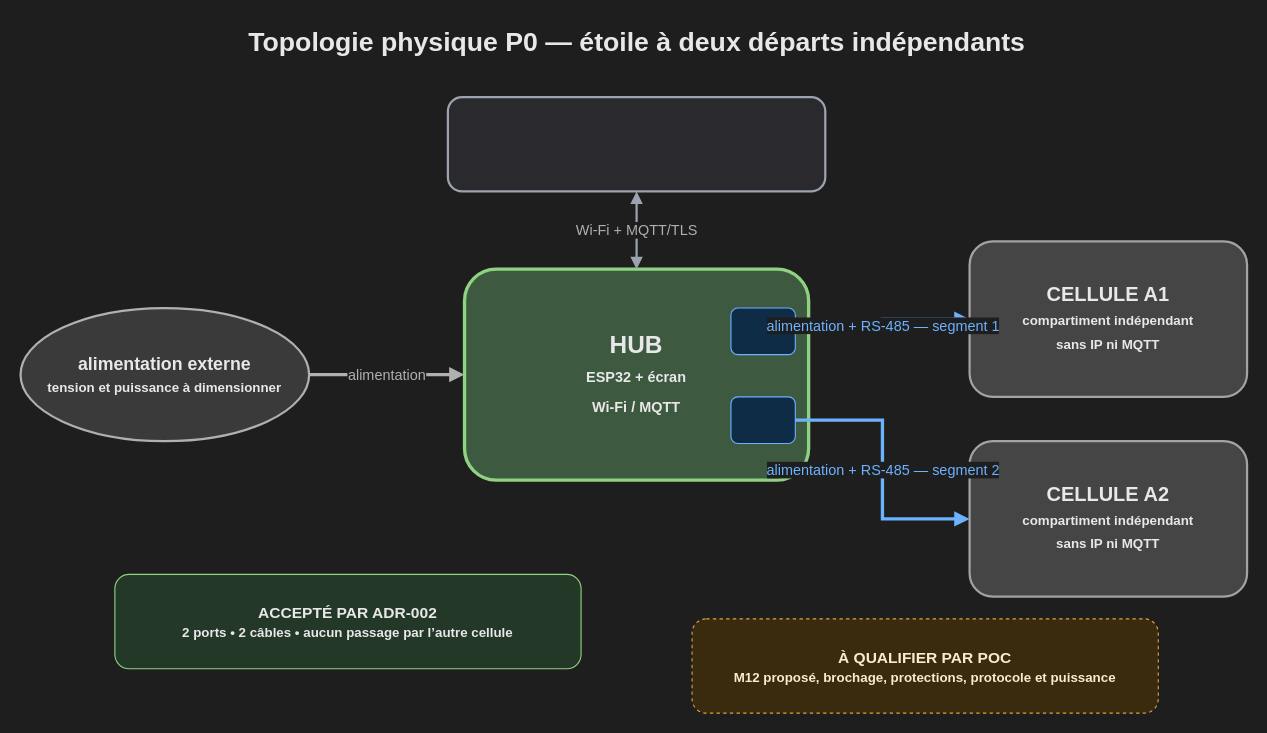
This 1267x733 diagram has some shape labels left out. Each missing label, with the centre of its shape:
"Broker MQTT sécurisé réseau du laboratoire" goes at point 636,143.
"PORT 1" goes at point 762,331.
"PORT 2" goes at point 762,419.
